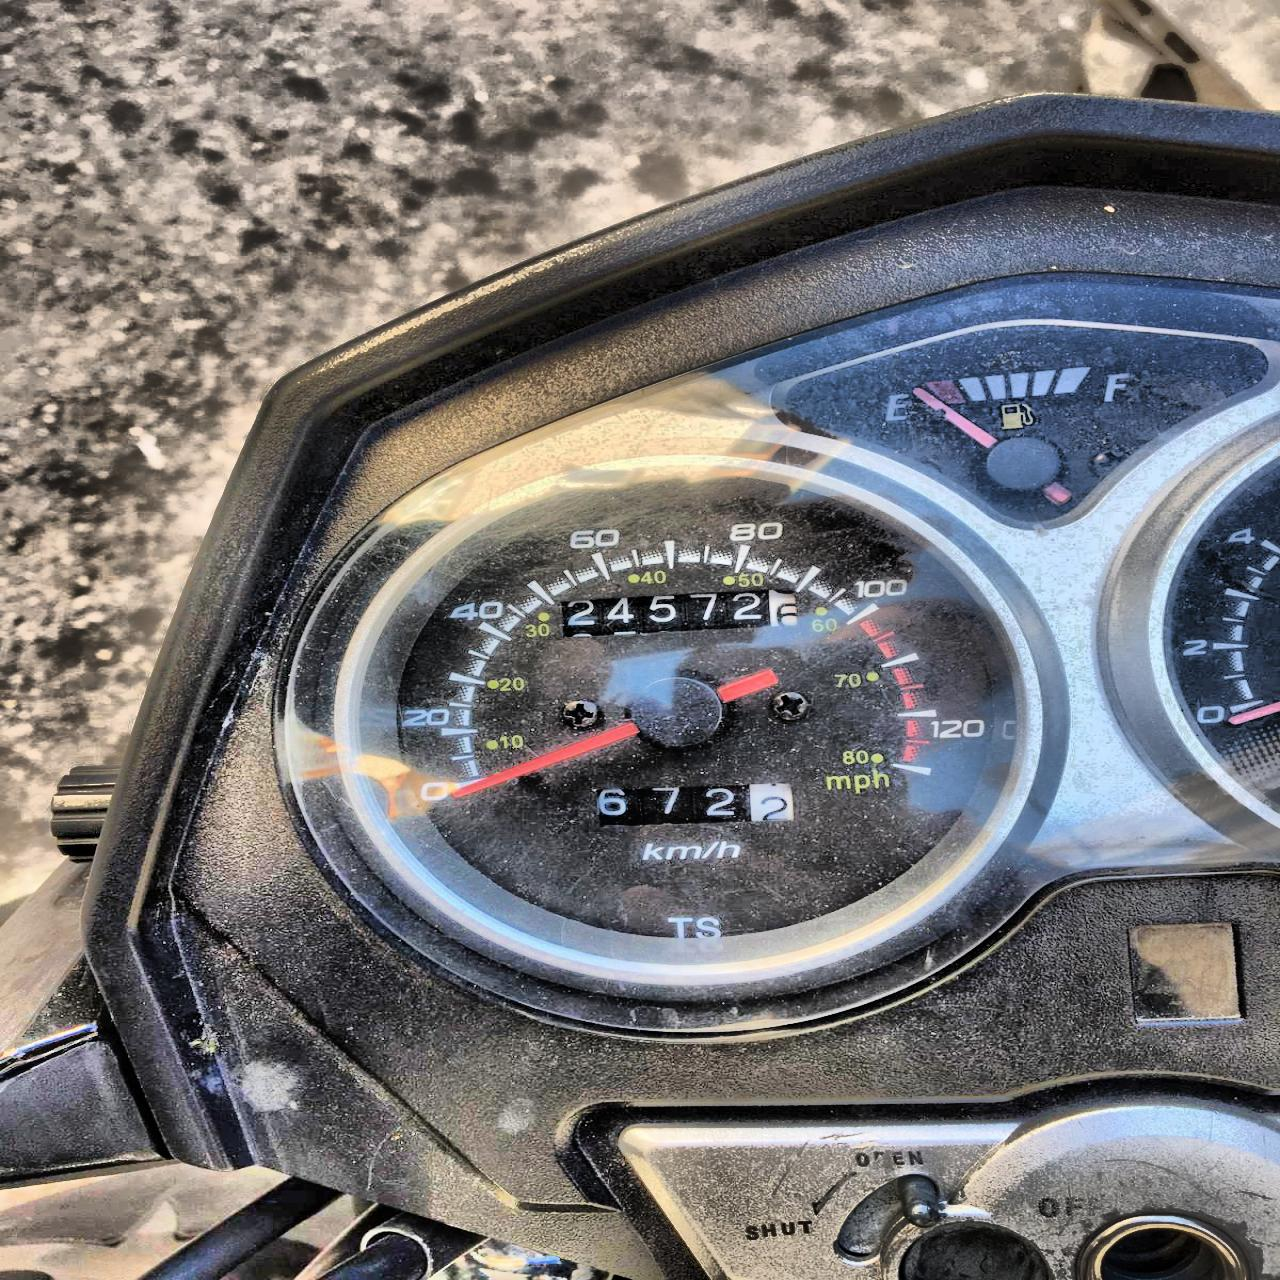2: (731, 592, 761, 619), (565, 598, 594, 625)
4: (606, 597, 633, 622)
5: (648, 593, 675, 621)
6: (775, 601, 798, 626)
7: (688, 592, 717, 620)
odometer: (556, 586, 799, 640)
